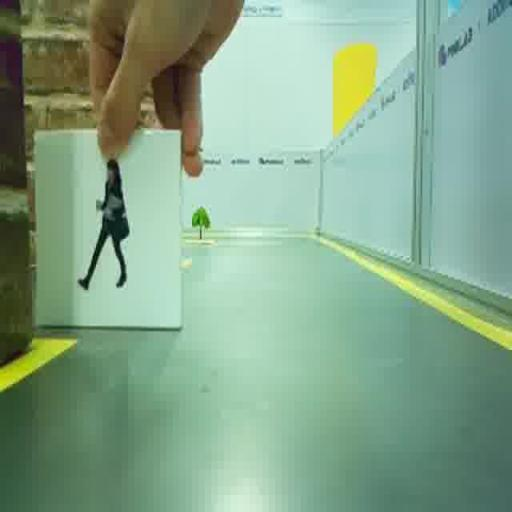human: (78, 159, 129, 289)
